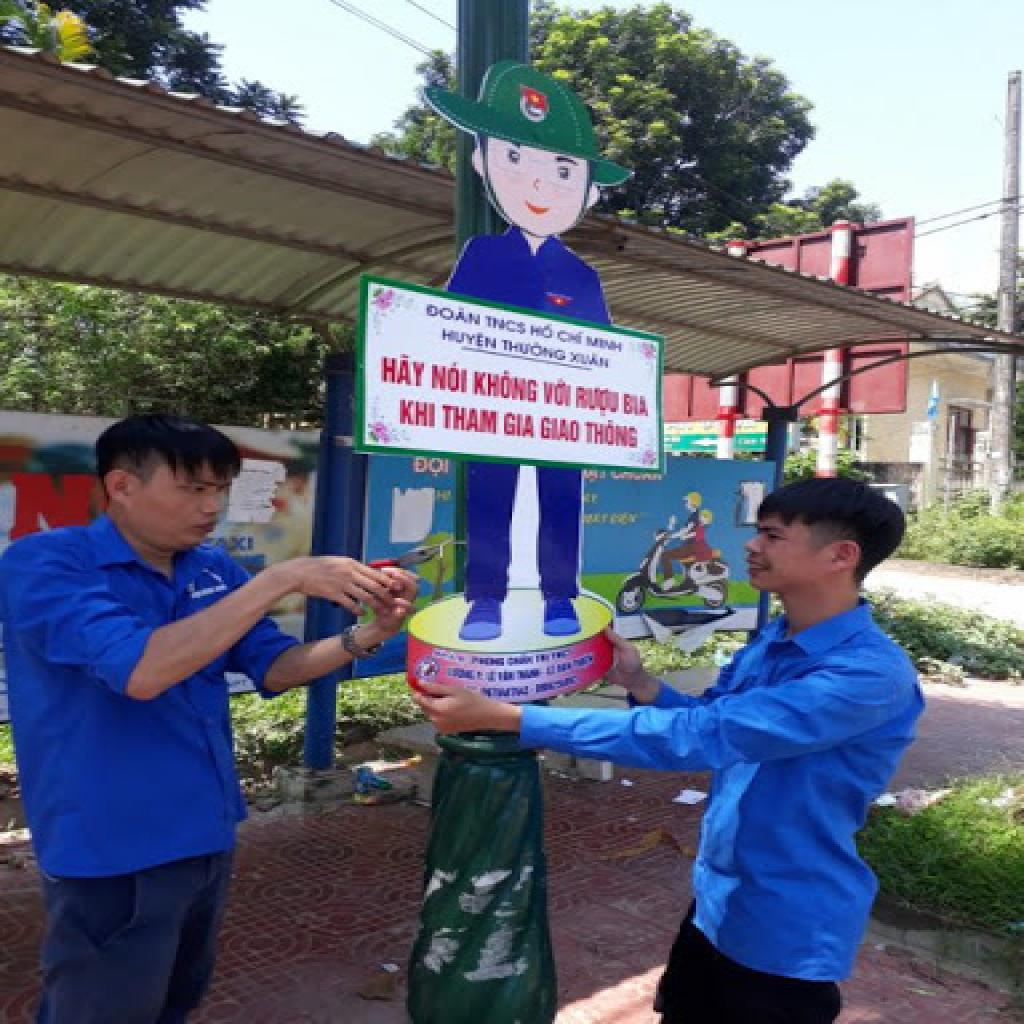text: (5, 470, 99, 546), (472, 362, 541, 406), (581, 416, 643, 452), (499, 334, 568, 366), (381, 348, 432, 390), (440, 402, 501, 436), (424, 298, 485, 330), (440, 324, 501, 356), (576, 384, 624, 422), (430, 356, 470, 396), (397, 396, 440, 432), (539, 414, 584, 446), (541, 372, 576, 410), (482, 312, 530, 338), (501, 410, 539, 442), (568, 348, 613, 372), (622, 392, 654, 422), (411, 458, 453, 480), (586, 334, 626, 354), (554, 324, 586, 348), (528, 318, 557, 342), (229, 536, 259, 554)
